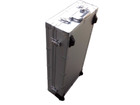shoutibox: (44, 1, 99, 102)
